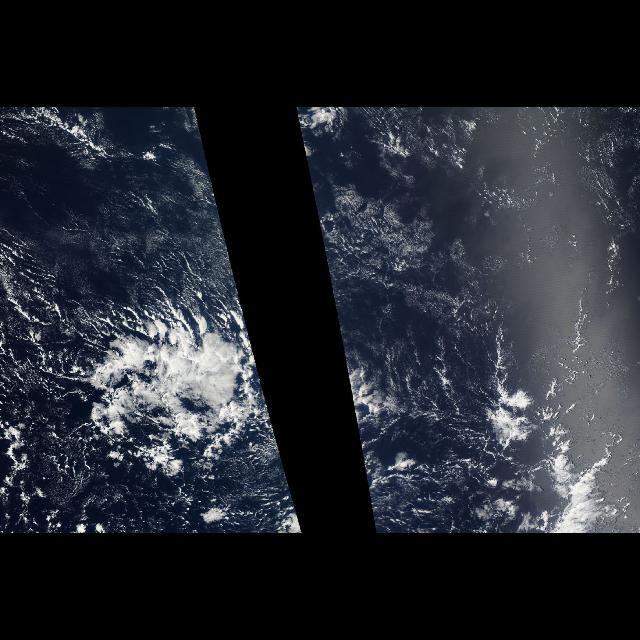Fish: (59, 246, 283, 468), (324, 246, 530, 468)
Gravel: (6, 284, 304, 532), (330, 284, 544, 532)
Sugar: (314, 108, 638, 342), (60, 180, 238, 292)
